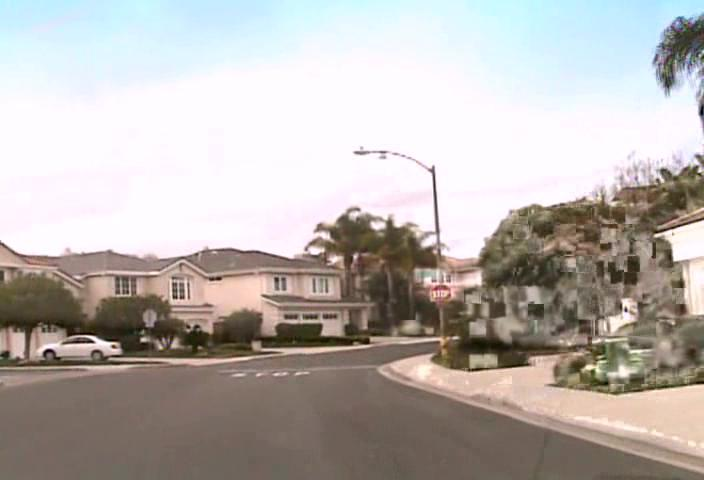stop: (430, 282, 452, 304)
